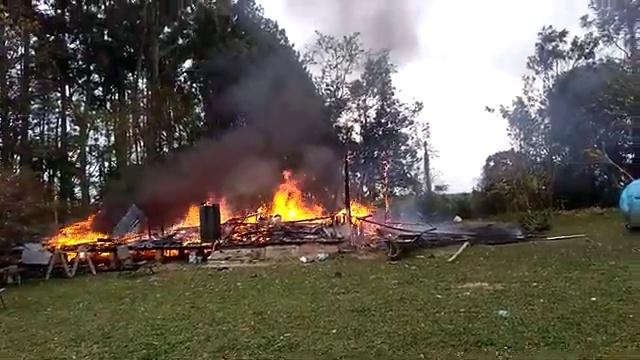fire: (273, 184, 318, 221), (54, 220, 104, 246)
smoke: (250, 75, 323, 129), (200, 137, 266, 191), (139, 166, 193, 214)
